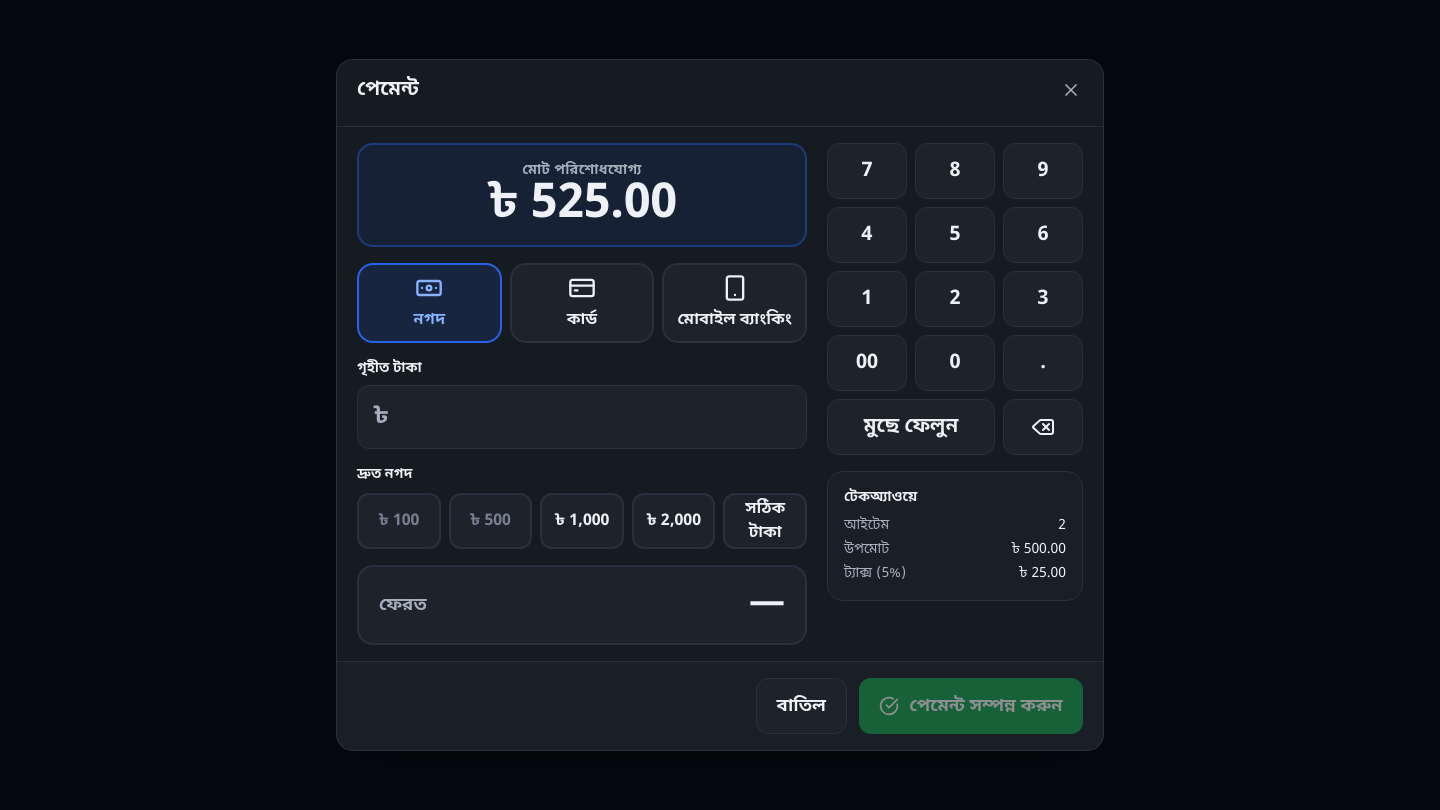
Test: PaymentModal › keypad entry works like typing
The image size is (1440, 810).
Click the button "5": coordinates (955, 235) x1=915 y1=207 x2=995 y2=263
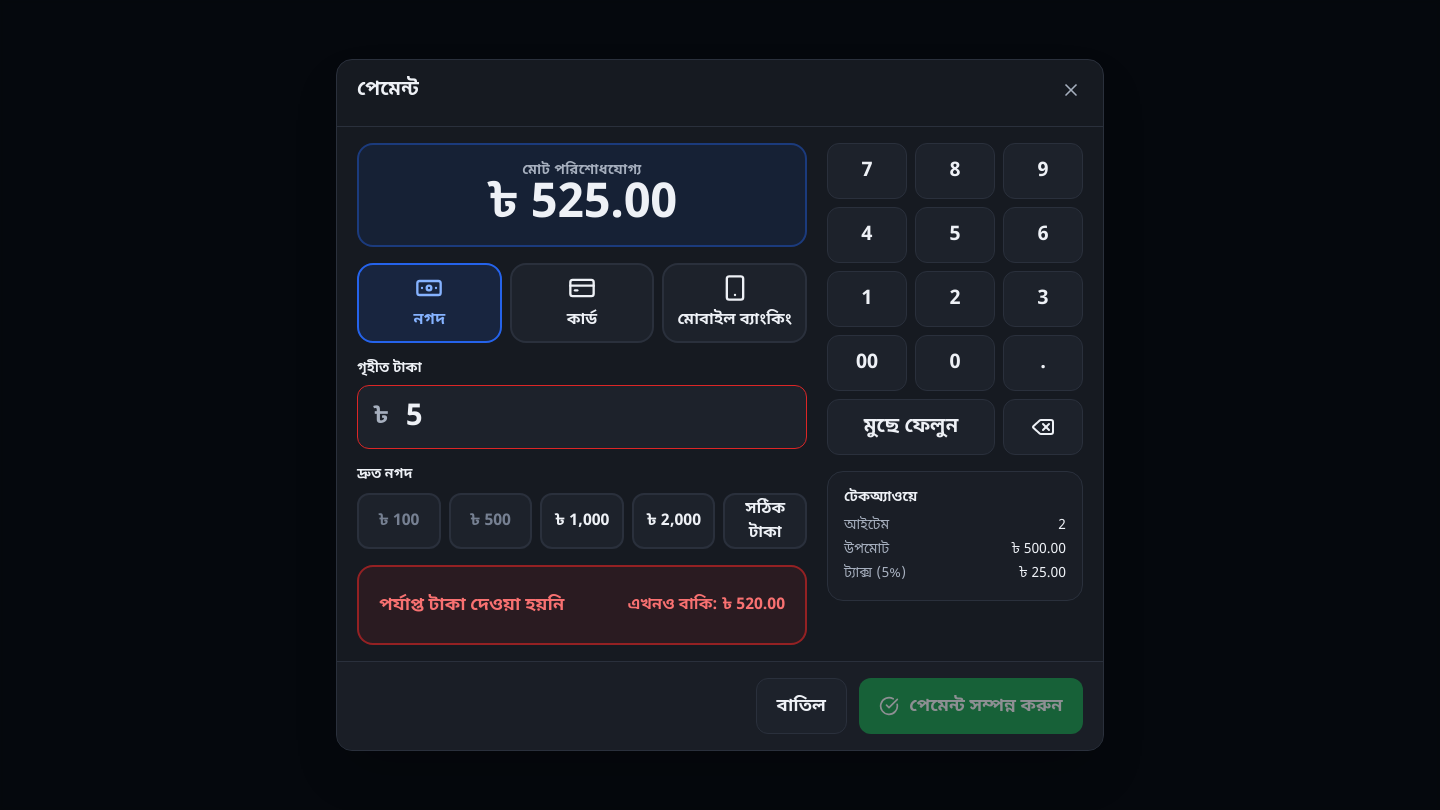
Click the button "3": coordinates (1043, 299) x1=1003 y1=271 x2=1083 y2=327
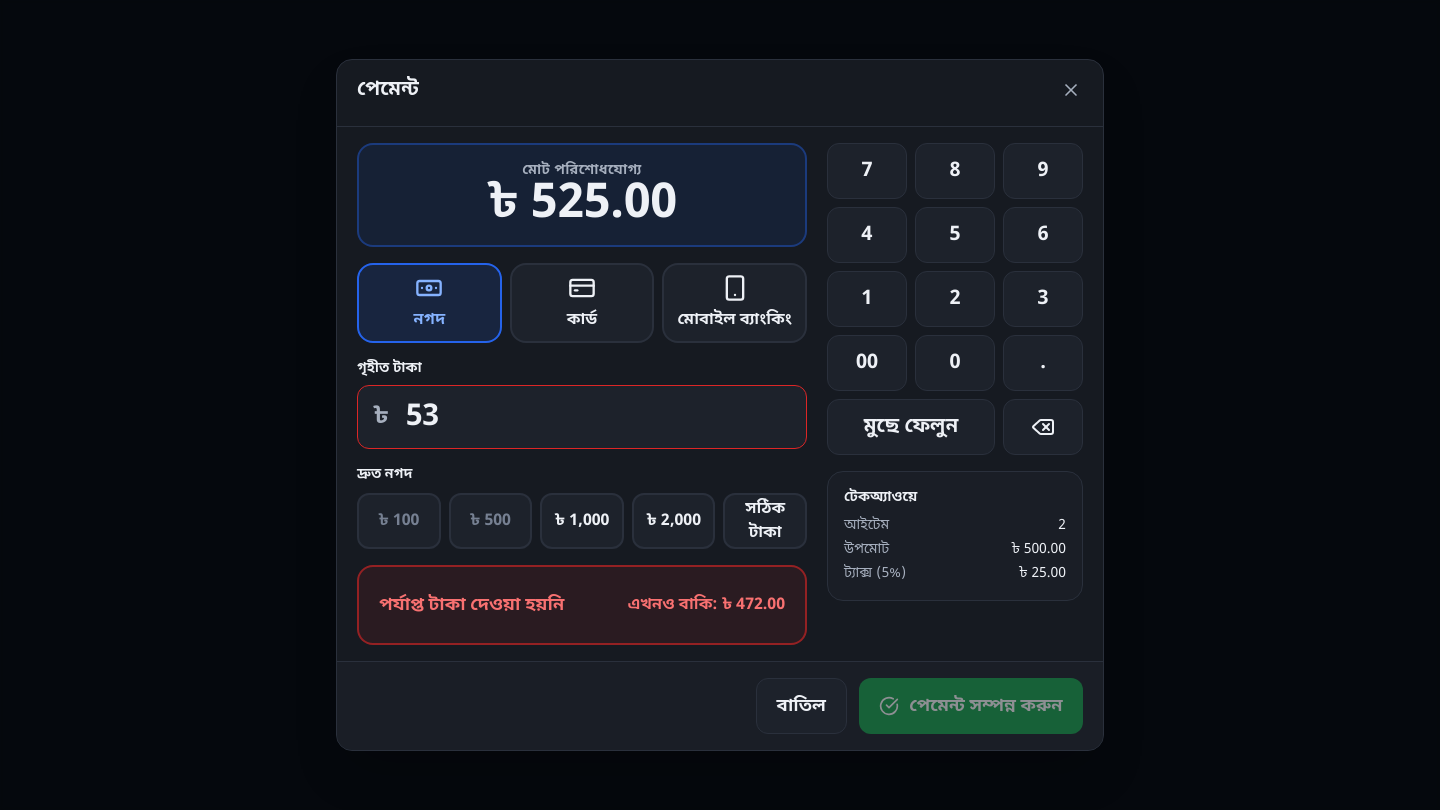
Click the button "0": coordinates (955, 363) x1=915 y1=335 x2=995 y2=391
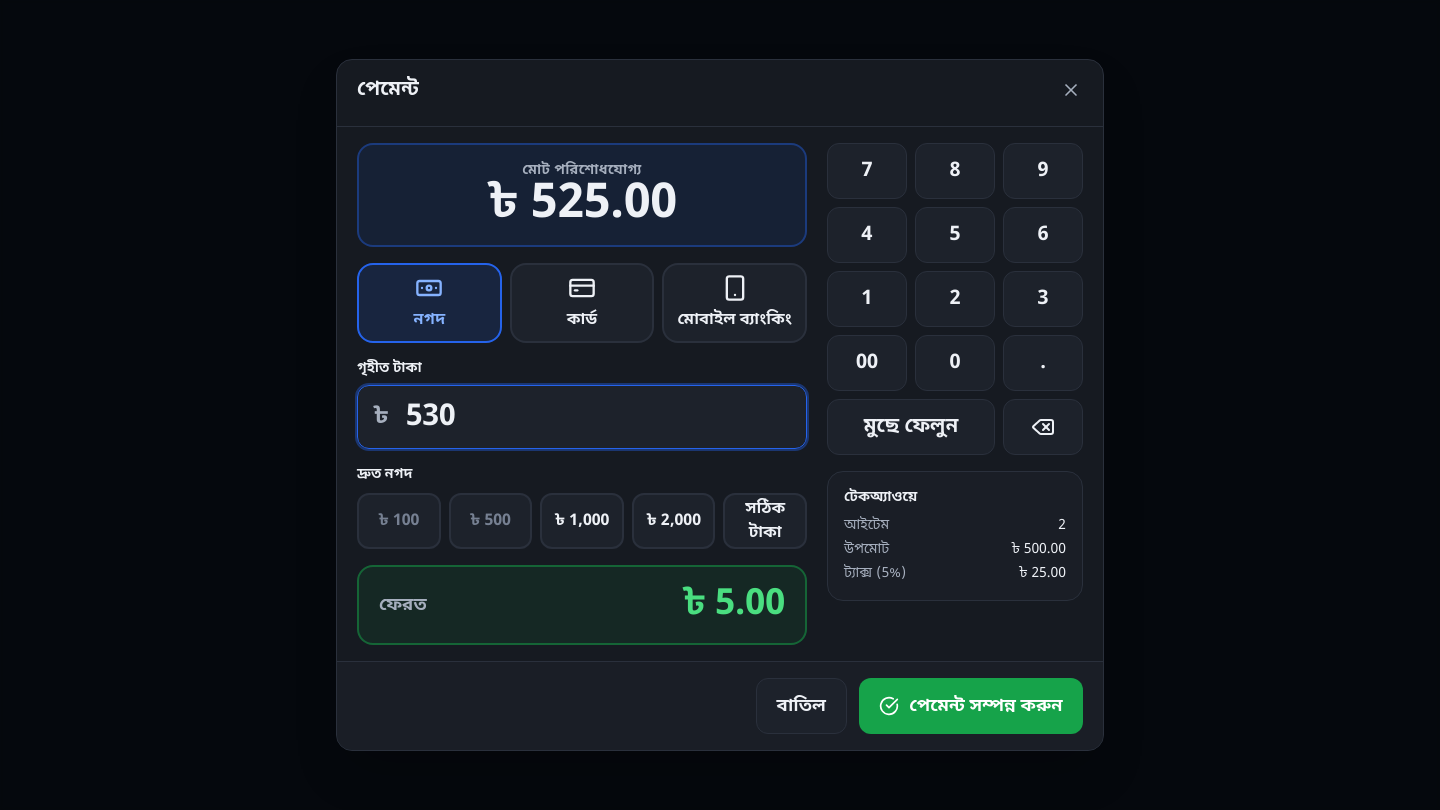
Result: the field labelled "গৃহীত টাকা" holds "530" at x1=357 y1=385 x2=807 y2=449
Result: the text "৳ 5.00" is shown at x1=682 y1=585 x2=785 y2=625
